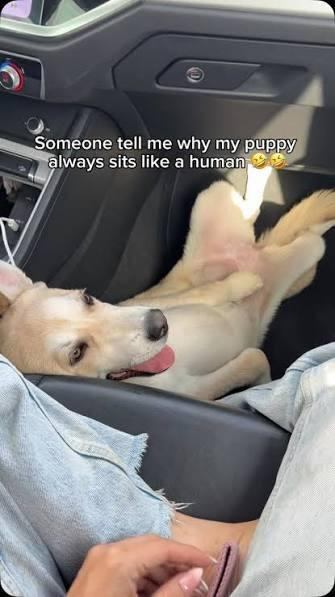adult_dog: (1, 161, 335, 404)
